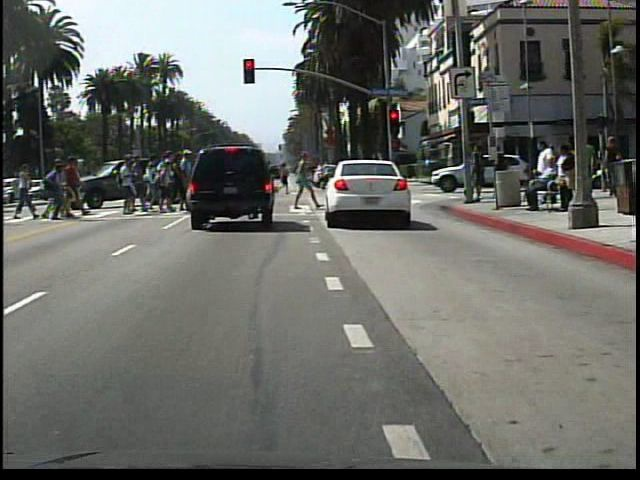person: (520, 154, 562, 216), (288, 147, 320, 213), (550, 139, 576, 210)
